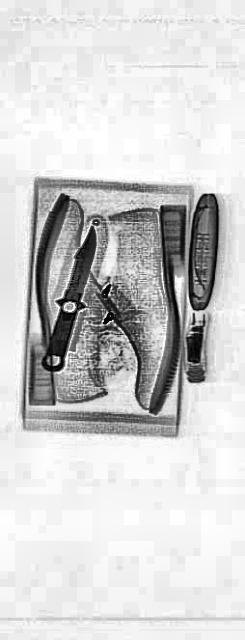Knife: (37, 206, 102, 394)
